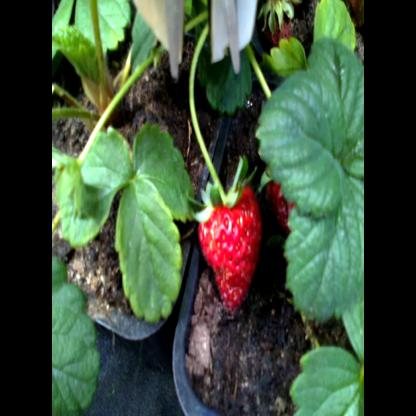ripe: (191, 180, 271, 322), (256, 122, 346, 239)
